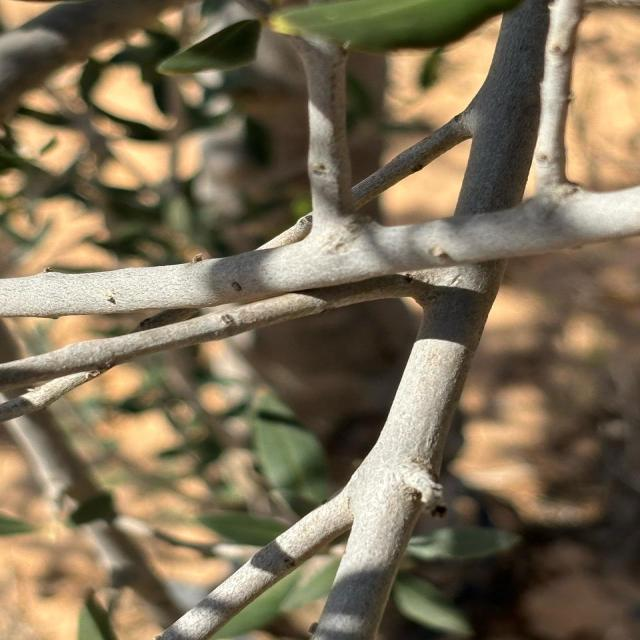Healthy: (155, 286, 491, 640), (0, 242, 333, 318)
